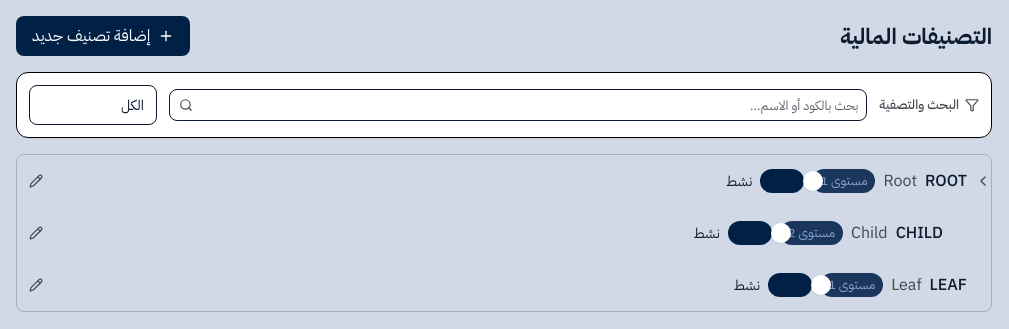
ClassificationsListPage › T006: Search › filters by name
This screenshot has width=1009, height=329.
In the search field with placeholder "بحث بالكود أو الاسم...": (518, 105) [169, 89, 867, 121], type "Leaf"
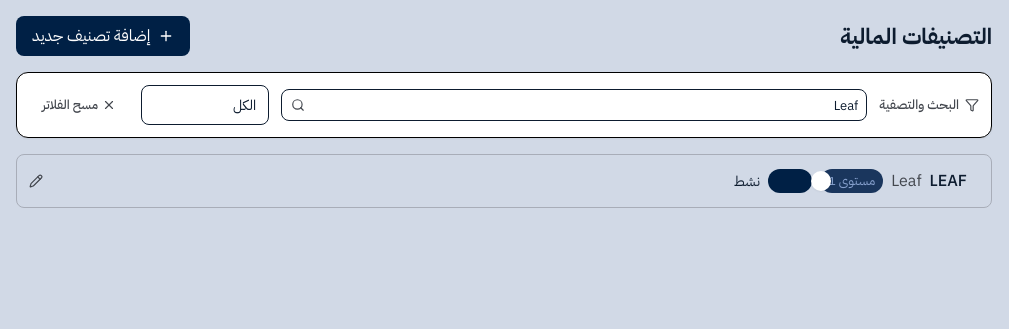
Expected: the text "LEAF" is shown, [930, 169, 967, 193]
Now the text "ROOT" is gone
